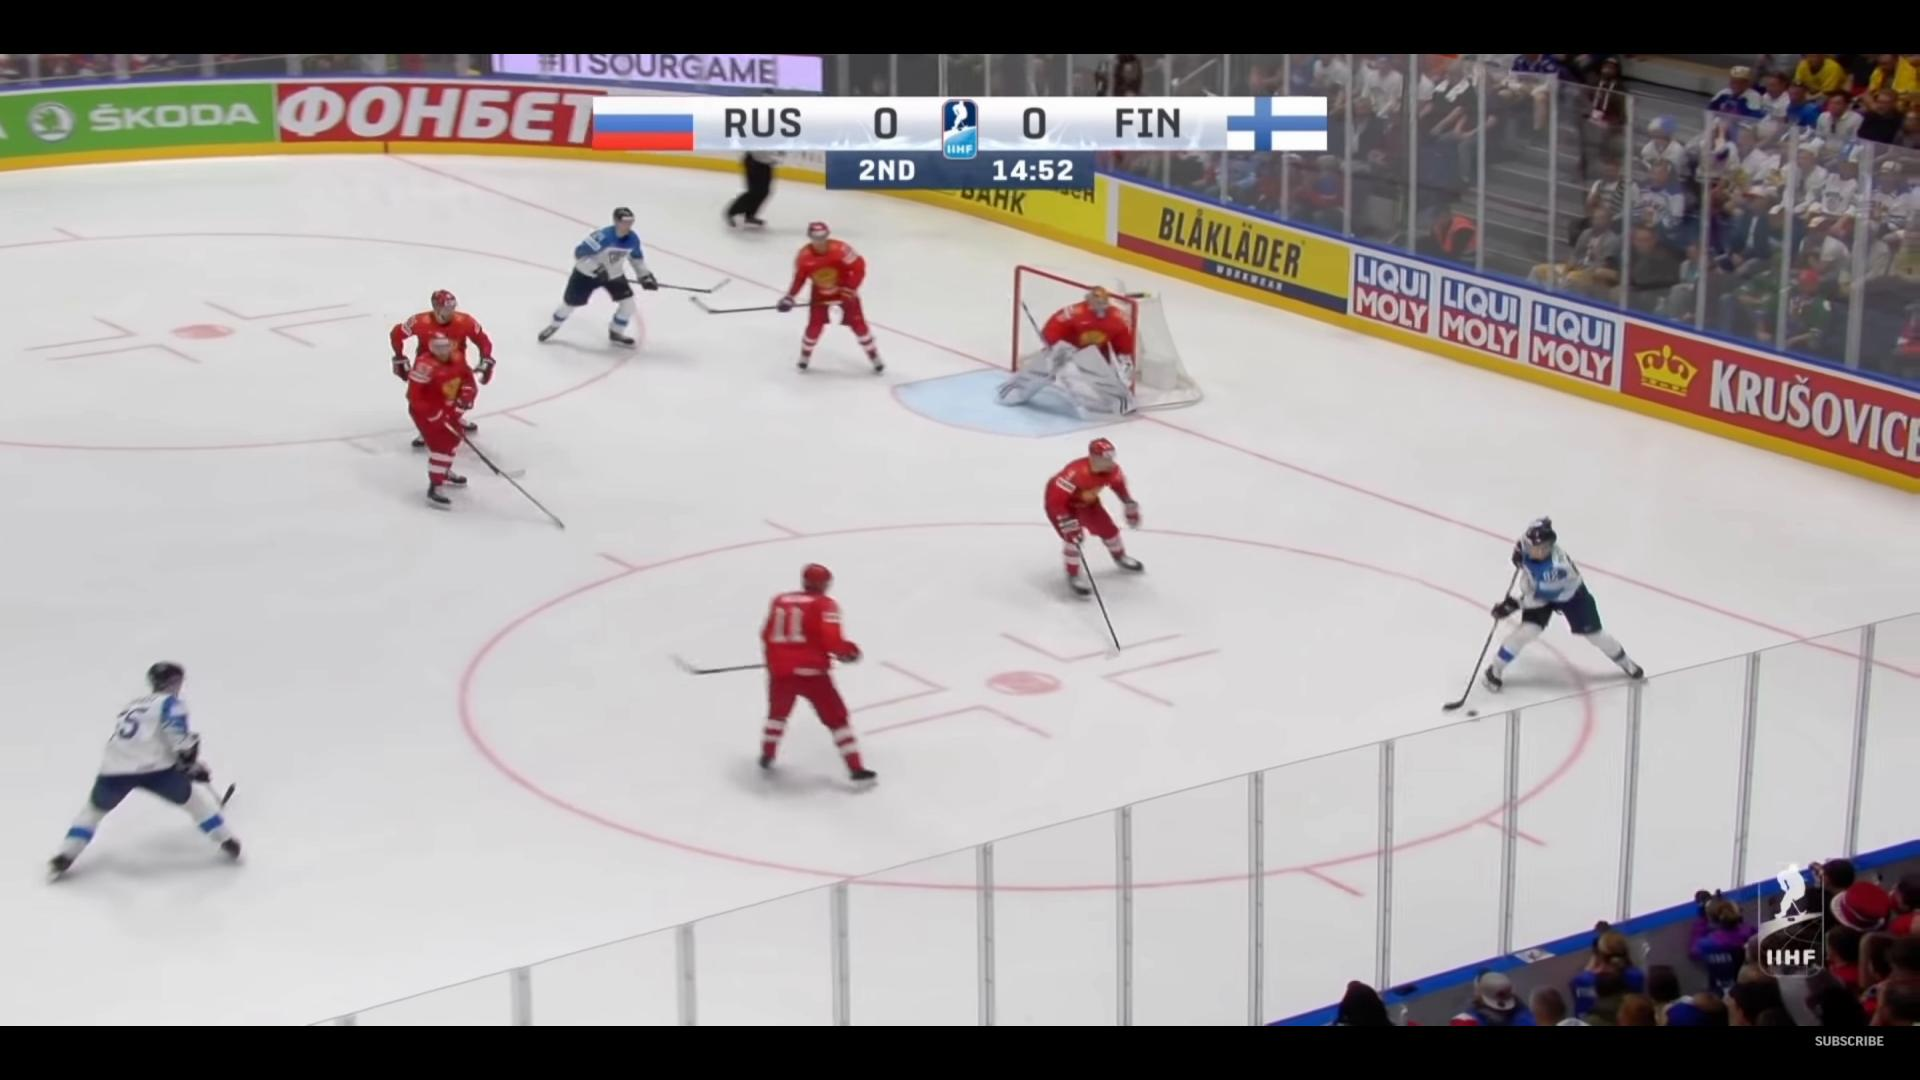puck: (1465, 709, 1478, 716)
